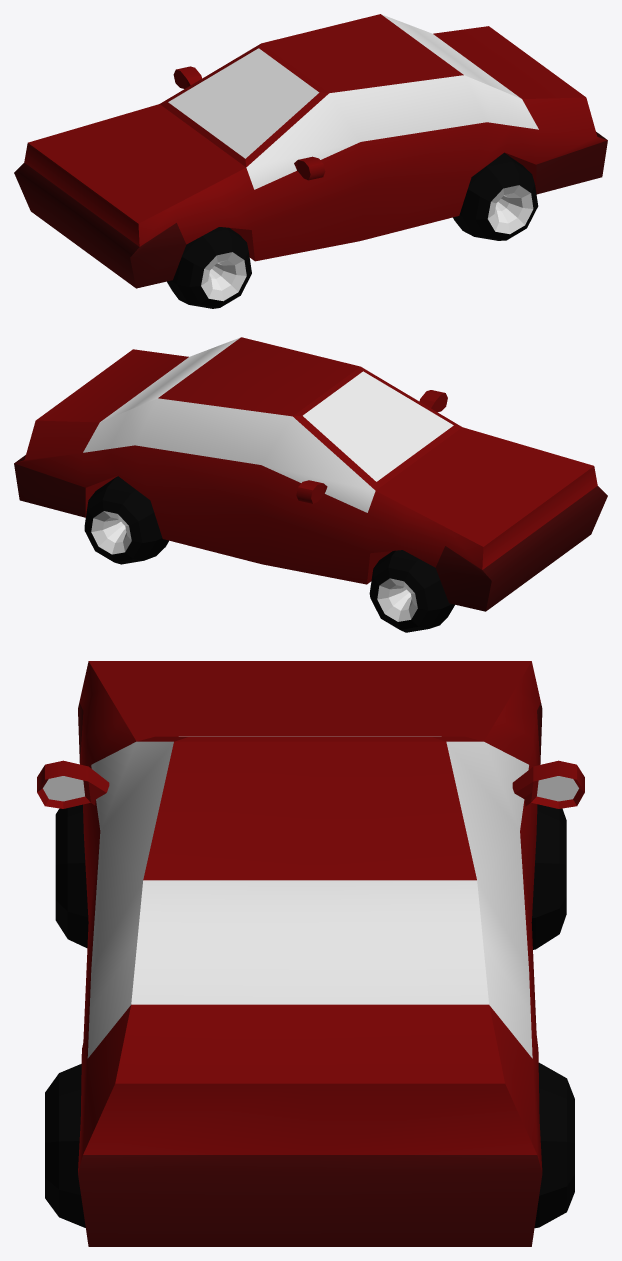
File: BasicCar.fbx
The picture shows the model from 3 angles, top to bottom: view 1: azimuth 30°, elevation 25°; view 2: azimuth 150°, elevation 25°; view 3: azimuth 270°, elevation 25°; orthographic projection. The views are drawn at different scales.
Visible parts, largest first — view 1: BasicCar:front2; view 2: BasicCar:front2; view 3: BasicCar:front2.
Part boxes in pixels (left/top/right/bottom): BasicCar:front2: left=14, top=14, right=607, bottom=308; BasicCar:front2: left=14, top=337, right=607, bottom=632; BasicCar:front2: left=37, top=661, right=584, bottom=1246.
Size of the model in its own units: 11.38 by 3.88 by 5.65.
